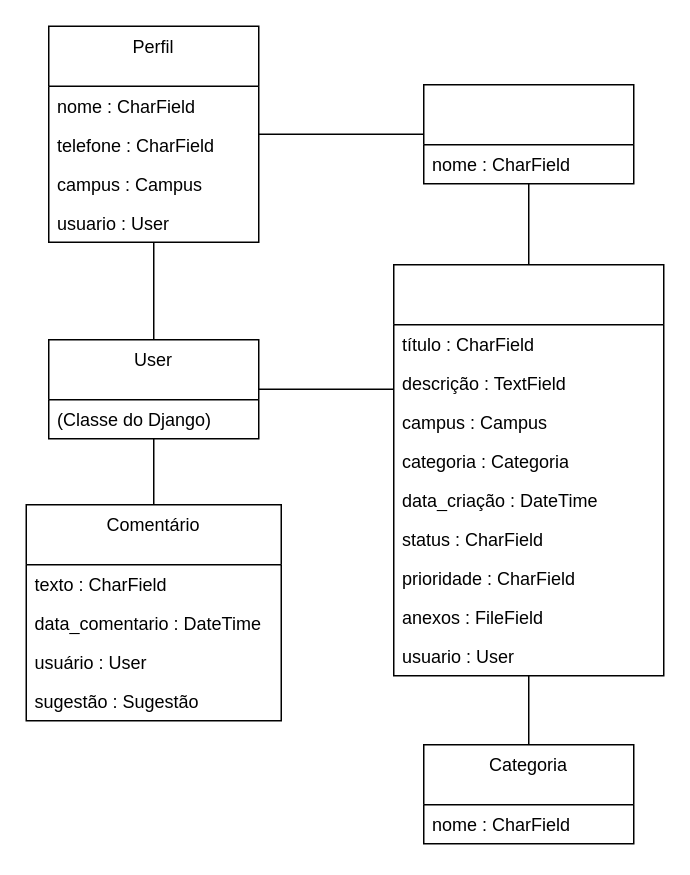
Some shapes in this 690 by 875 pixel diagram are drawn without their labels. The box of each missing label's shape, as (x1, y1, x2, y2) in pixels:
Campus: (422, 83, 634, 184)
Sugestão: (392, 263, 664, 676)
